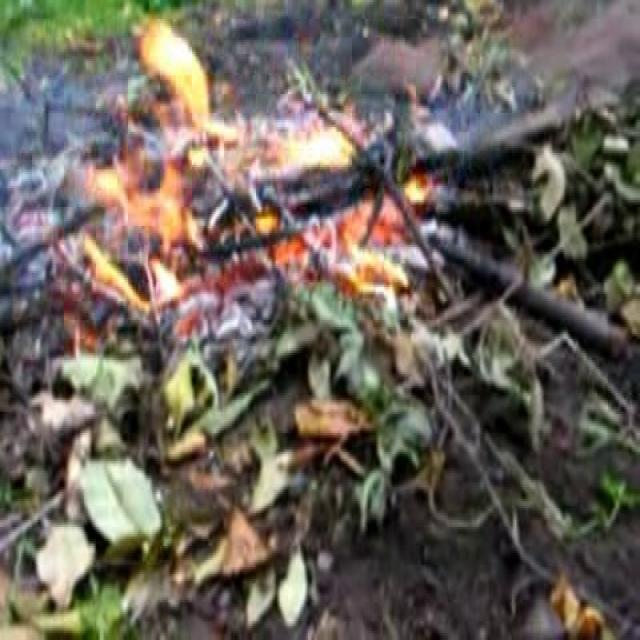Fire: (110, 28, 418, 302)
